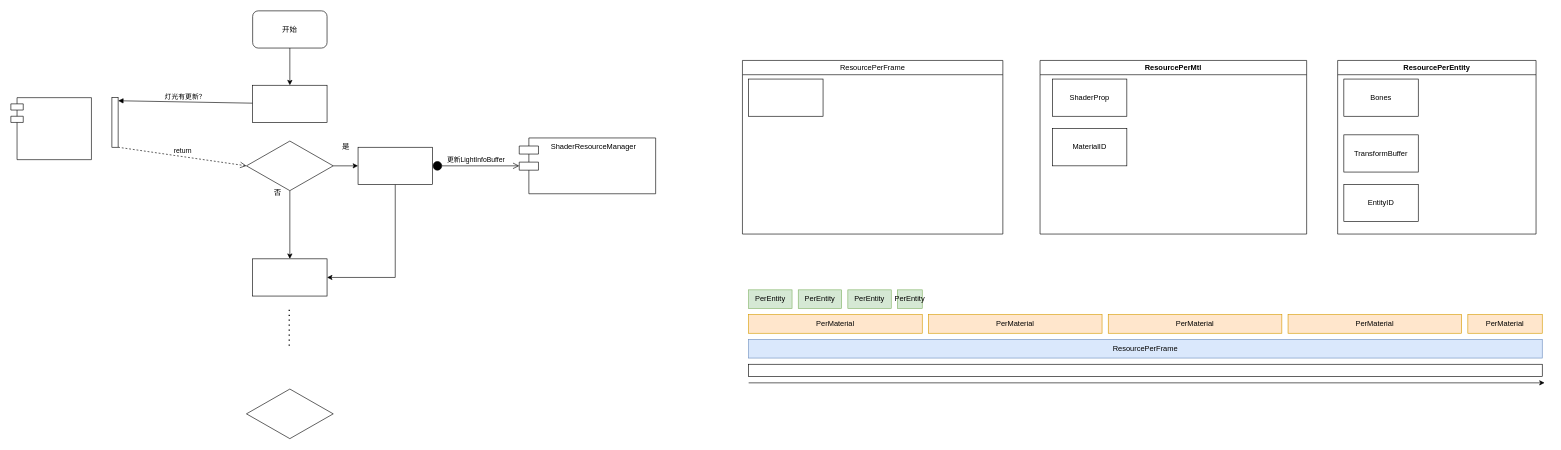
Image size: 1561x450. Some labels were removed from this diagram. The centre of each missing label's shape, as x and y in pixels:
"LightInfo" goes at (785,97).
"SceneEditor" goes at (50,128).
"Stage" goes at (1145,370).
"更新灯光信息" goes at (394,165).
"检查灯光更新" goes at (289,103).
